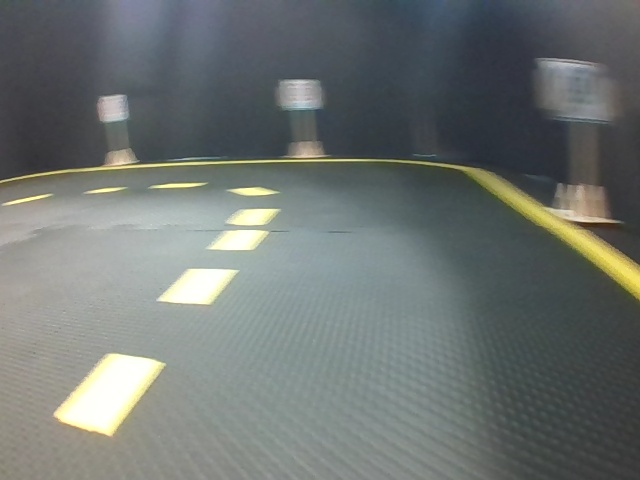30: (283, 78, 320, 105)
no30: (543, 56, 611, 123)
